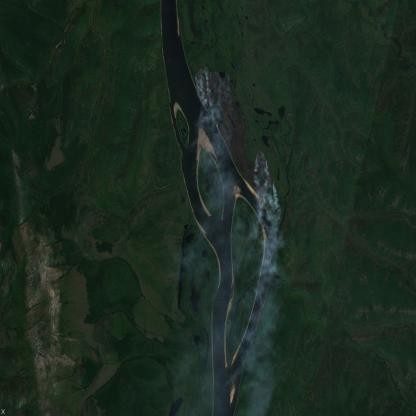fire: (188, 64, 279, 206)
